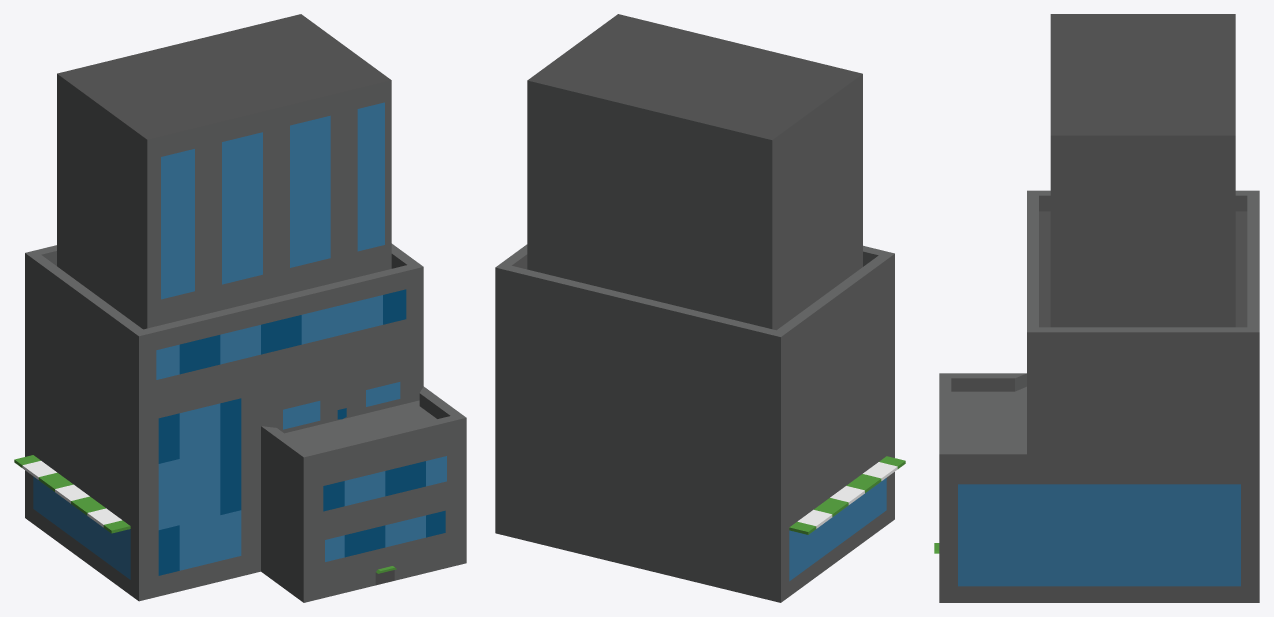
Rendered from Edificio3.fbx.
The picture shows the model from 3 angles, left to right: view 1: azimuth 30°, elevation 25°; view 2: azimuth 150°, elevation 25°; view 3: azimuth 270°, elevation 25°; orthographic projection. The views are drawn at different scales.
Visible parts, largest first — view 1: Cube; view 2: Cube; view 3: Cube.
Part boxes in pixels (box(x1,y1,x2,y2)): Cube: box(14, 14, 466, 602); Cube: box(495, 14, 905, 602); Cube: box(934, 14, 1259, 602).
Size of the model in its own units: 308 by 434 by 279.
